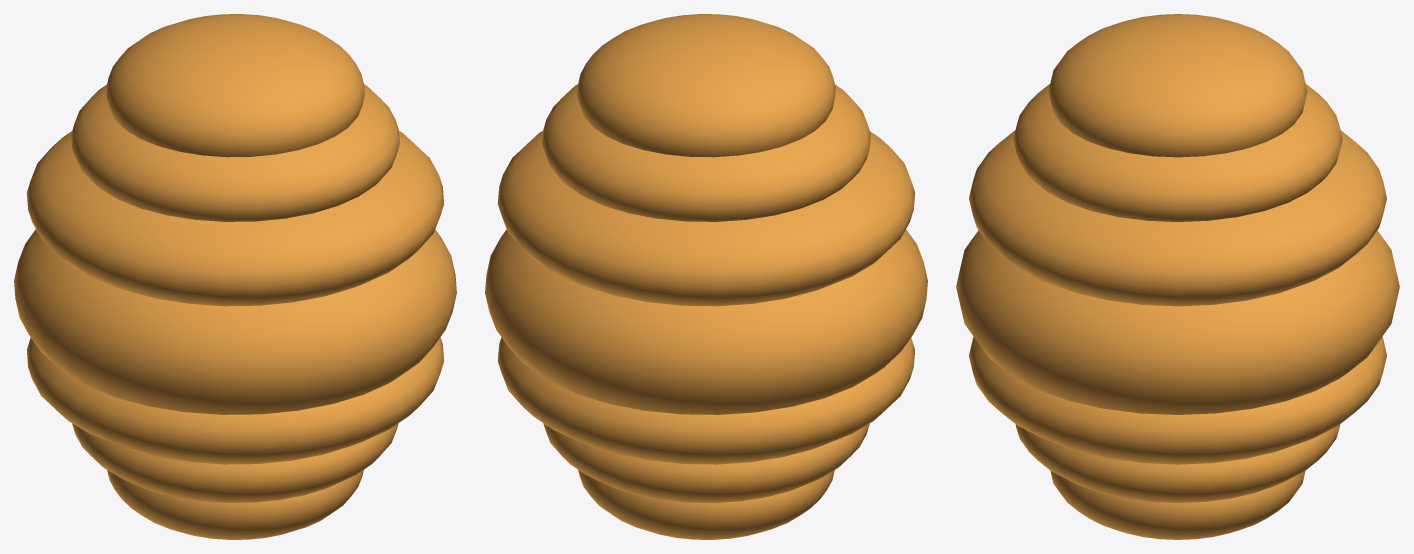
File: Beehive.fbx
3 views of the same model, side by side, from view 1: azimuth 30°, elevation 25°; view 2: azimuth 150°, elevation 25°; view 3: azimuth 270°, elevation 25° (orthographic).
Parts seen in each view (by area): view 1: Sphere; view 2: Sphere; view 3: Sphere.
Part boxes in pixels (x1,y1,x2,y2): Sphere: [14, 14, 456, 539]; Sphere: [485, 14, 927, 539]; Sphere: [956, 14, 1399, 539].
Bounding box in the file's own units: 165 × 165 × 197.
